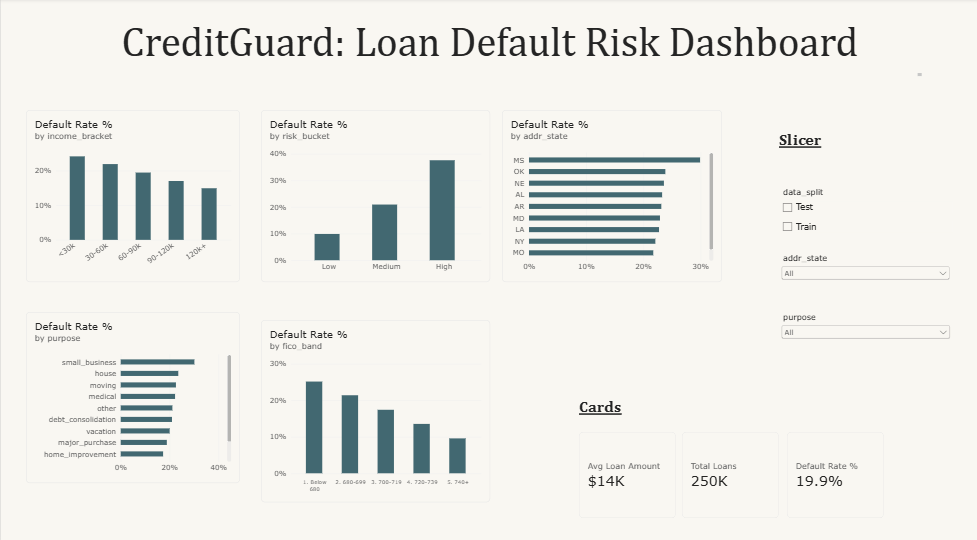

The page's visual inventory and layout, read from the dashboard file:
{"tool":"powerbi","page":{"name":"Page 1","canvas":[1920,1080],"ordinal":0},"visuals":[{"type":"cardVisual","fields":{"Data":["dashboard_data.Default Rate %"]},"box":[1544,852,190.5,169],"z":0},{"type":"cardVisual","fields":{"Data":["dashboard_data.Total Loans"]},"box":[1338,852,190.5,169],"z":1000},{"type":"cardVisual","fields":{"Data":["dashboard_data.Avg Loan Amount"]},"box":[1134,852,190.5,169],"z":2000},{"type":"clusteredColumnChart","fields":{"Category":["dashboard_data.income_bracket"],"Y":["dashboard_data.Default Rate %"]},"box":[50,220,420,338],"z":3000},{"type":"slicer","fields":{"Values":["dashboard_data.purpose"]},"box":[1528,616,340.5,114.9],"z":4000},{"type":"clusteredColumnChart","fields":{"Category":["dashboard_data.fico_band"],"Y":["dashboard_data.Default Rate %"]},"box":[510,632,450,358],"z":5000},{"type":"clusteredColumnChart","fields":{"Category":["dashboard_data.risk_bucket"],"Y":["dashboard_data.Default Rate %"]},"box":[510,220,450,338],"z":6000},{"type":"clusteredBarChart","fields":{"Category":["dashboard_data.purpose"],"Y":["dashboard_data.Default Rate %"]},"box":[50,616,420,336],"z":6001},{"type":"slicer","fields":{"Values":["dashboard_data.addr_state"]},"box":[1528,500,340,115],"z":6002},{"type":"slicer","fields":{"Values":["dashboard_data.data_split"]},"box":[1528,372,340.5,127],"z":6003},{"type":"clusteredBarChart","fields":{"Category":["dashboard_data.addr_state"],"Y":["dashboard_data.Default Rate %"]},"box":[984,220,432,338],"z":6004},{"type":"textbox","title":"CreditGuard: Loan Default Risk Dashboard","box":[112,38,1696,116],"z":6005},{"type":"textbox","title":"Cards","box":[1134,784,152,72],"z":6006},{"type":"textbox","title":"Slicer","box":[1528,260,152,72],"z":6007}]}

Visuals, with their boxes in screenshot pixels (x1, y1, x2, y2), scaled from the page's 1920x1080 canvas onto the 977x540 screenshot:
cardVisual - dashboard_data.Default Rate %: {"x1": 786, "y1": 426, "x2": 883, "y2": 510}
cardVisual - dashboard_data.Total Loans: {"x1": 681, "y1": 426, "x2": 778, "y2": 510}
cardVisual - dashboard_data.Avg Loan Amount: {"x1": 577, "y1": 426, "x2": 674, "y2": 510}
clusteredColumnChart - dashboard_data.income_bracket x dashboard_data.Default Rate %: {"x1": 25, "y1": 110, "x2": 239, "y2": 279}
slicer - dashboard_data.purpose: {"x1": 778, "y1": 308, "x2": 951, "y2": 365}
clusteredColumnChart - dashboard_data.fico_band x dashboard_data.Default Rate %: {"x1": 260, "y1": 316, "x2": 489, "y2": 495}
clusteredColumnChart - dashboard_data.risk_bucket x dashboard_data.Default Rate %: {"x1": 260, "y1": 110, "x2": 489, "y2": 279}
clusteredBarChart - dashboard_data.purpose x dashboard_data.Default Rate %: {"x1": 25, "y1": 308, "x2": 239, "y2": 476}
slicer - dashboard_data.addr_state: {"x1": 778, "y1": 250, "x2": 951, "y2": 308}
slicer - dashboard_data.data_split: {"x1": 778, "y1": 186, "x2": 951, "y2": 250}
clusteredBarChart - dashboard_data.addr_state x dashboard_data.Default Rate %: {"x1": 501, "y1": 110, "x2": 721, "y2": 279}
"CreditGuard: Loan Default Risk Dashboard" textbox: {"x1": 57, "y1": 19, "x2": 920, "y2": 77}
"Cards" textbox: {"x1": 577, "y1": 392, "x2": 654, "y2": 428}
"Slicer" textbox: {"x1": 778, "y1": 130, "x2": 855, "y2": 166}
